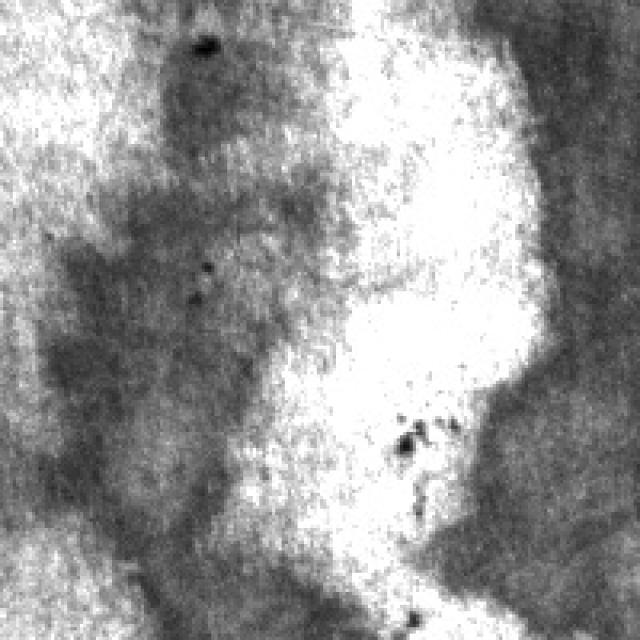patches: (38, 157, 333, 598), (439, 0, 640, 630), (131, 522, 416, 634), (154, 22, 304, 176)
